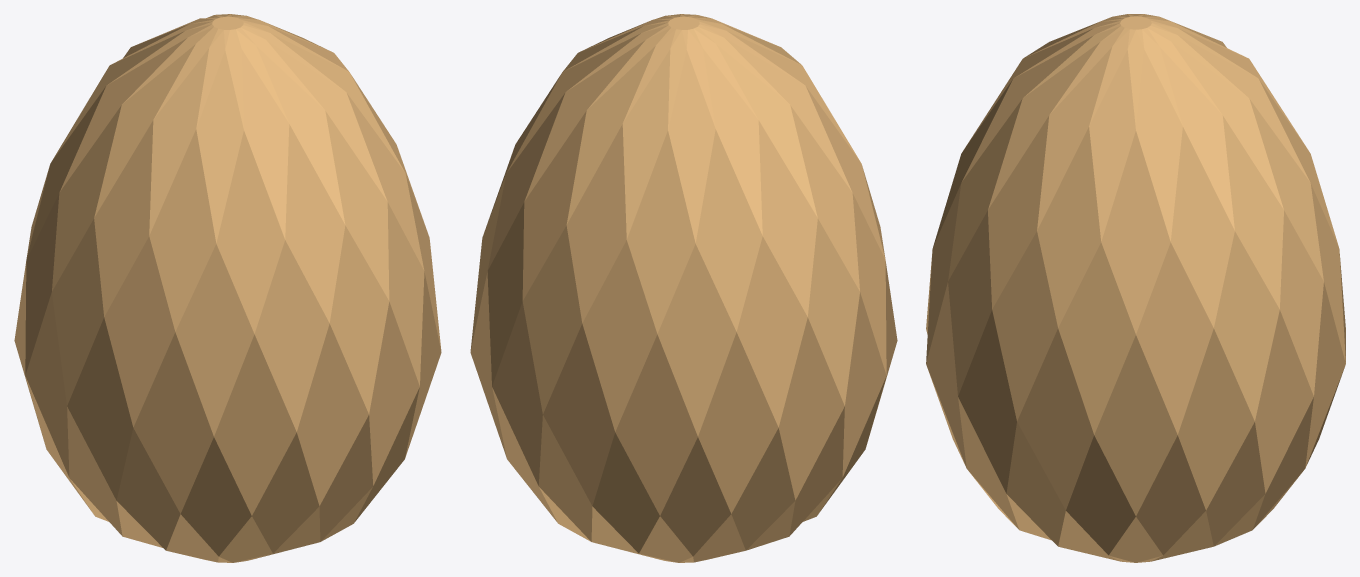
The model's file is eggMesh.fbx.
The picture shows the model from 3 angles, left to right: view 1: azimuth 30°, elevation 25°; view 2: azimuth 150°, elevation 25°; view 3: azimuth 270°, elevation 25°; orthographic projection.
Visible parts, largest first — view 1: Egg; view 2: Egg; view 3: Egg.
Part boxes in pixels (bbox=[...]): Egg: bbox=[14, 14, 441, 562]; Egg: bbox=[470, 14, 897, 562]; Egg: bbox=[926, 14, 1345, 562].
Size of the model in its own units: 445 by 612 by 445.
